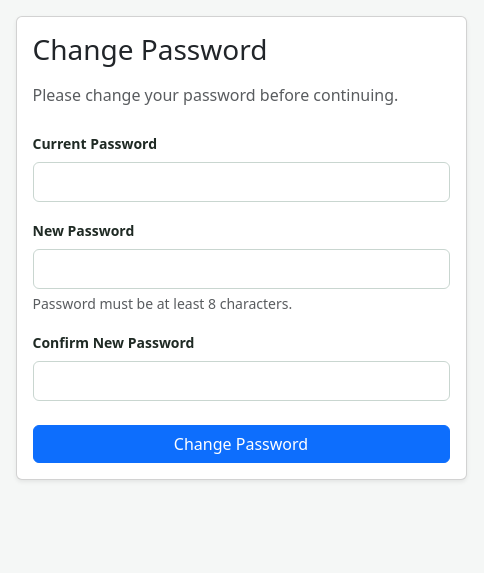
Lab 3 - First Login Password Change › shows an error when the new password and confirmation do not match
Type "Password123!" into the password field labelled "Current Password".
click(241, 182); type("Password123!")  # box [32, 162, 450, 202]
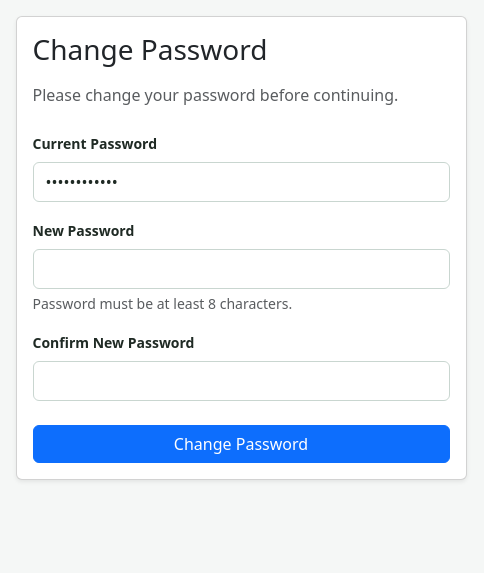
Type "NewPassword123!" into the password field labelled "New Password".
click(241, 269); type("NewPassword123!")  # box [32, 249, 450, 289]
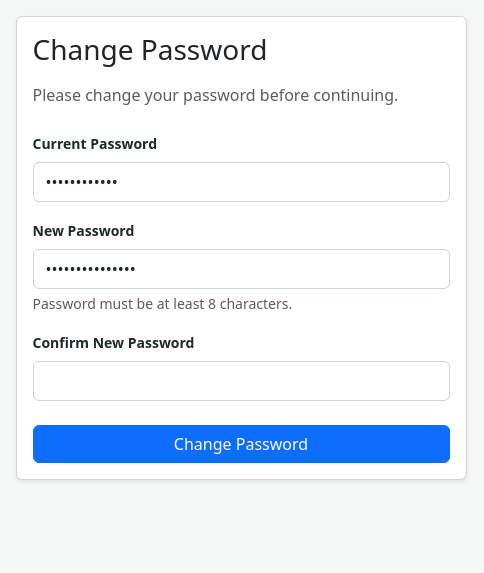
Type "DifferentPassword123!" into the password field labelled "Confirm New Password".
click(241, 381); type("DifferentPassword123!")  # box [32, 361, 450, 401]
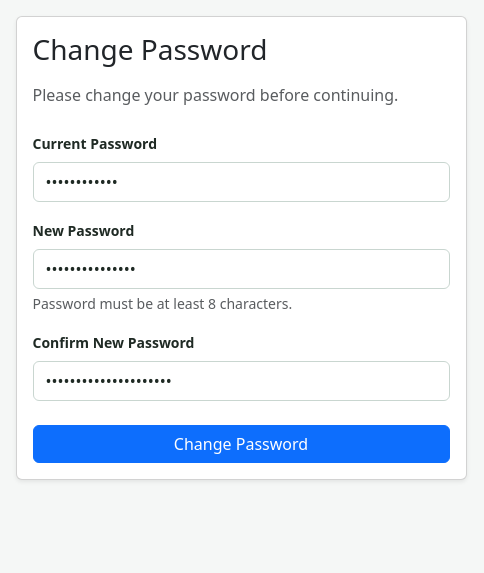
Click the button "Change Password".
click(241, 444)  # box [32, 425, 450, 463]
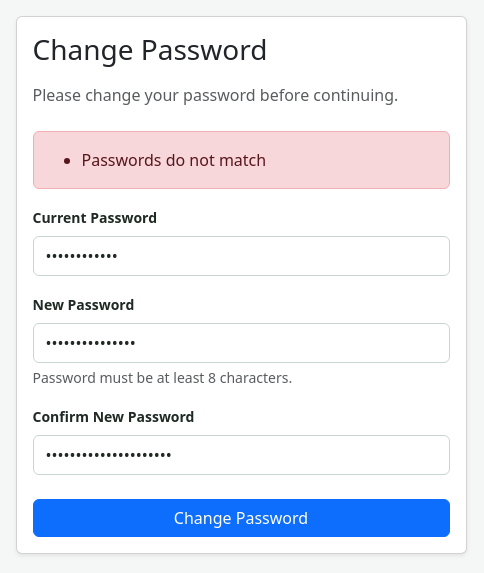
Check: the list item "Passwords do not match" is shown, box [82, 149, 266, 171]
